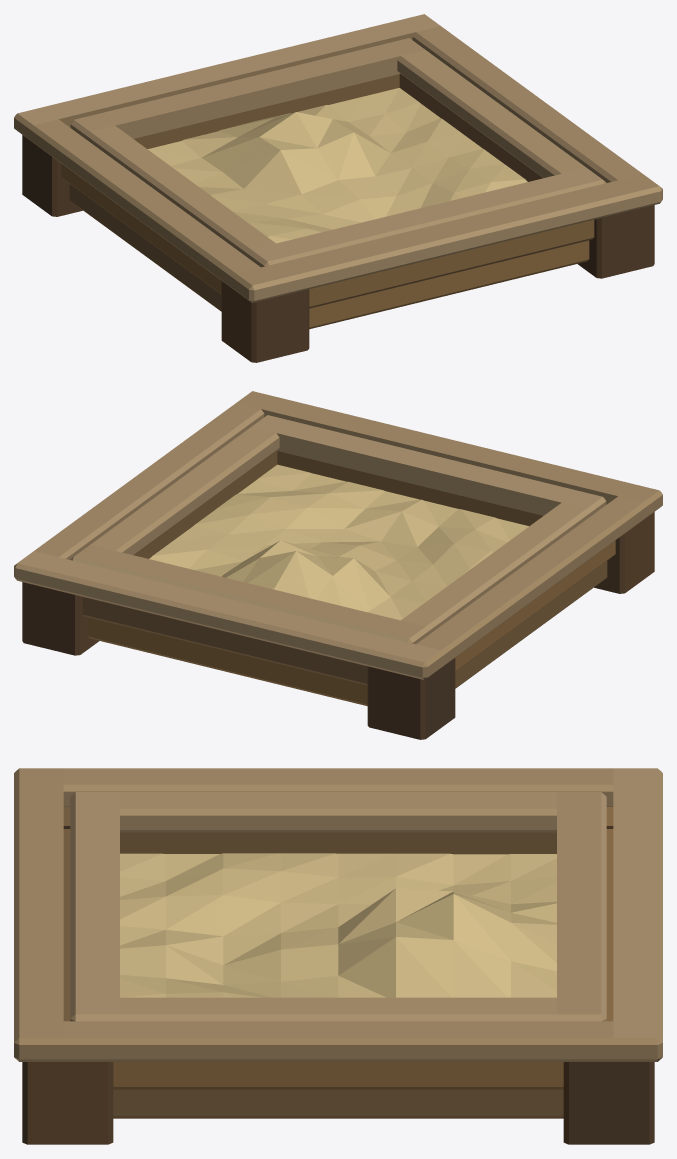
File: sandbox-224517.glb
3 renders of one model, top to bottom at view 1: azimuth 30°, elevation 25°; view 2: azimuth 150°, elevation 25°; view 3: azimuth 270°, elevation 25°, orthographic. The views are drawn at different scales.
Visible parts, largest first — view 1: sandbox; view 2: sandbox; view 3: sandbox.
Part boxes in pixels (x1=…): sandbox: x1=14, y1=14, x2=662, y2=362; sandbox: x1=14, y1=391, x2=662, y2=739; sandbox: x1=14, y1=768, x2=662, y2=1144.
Size of the model in its own units: 1.96 by 0.3906 by 1.96.
